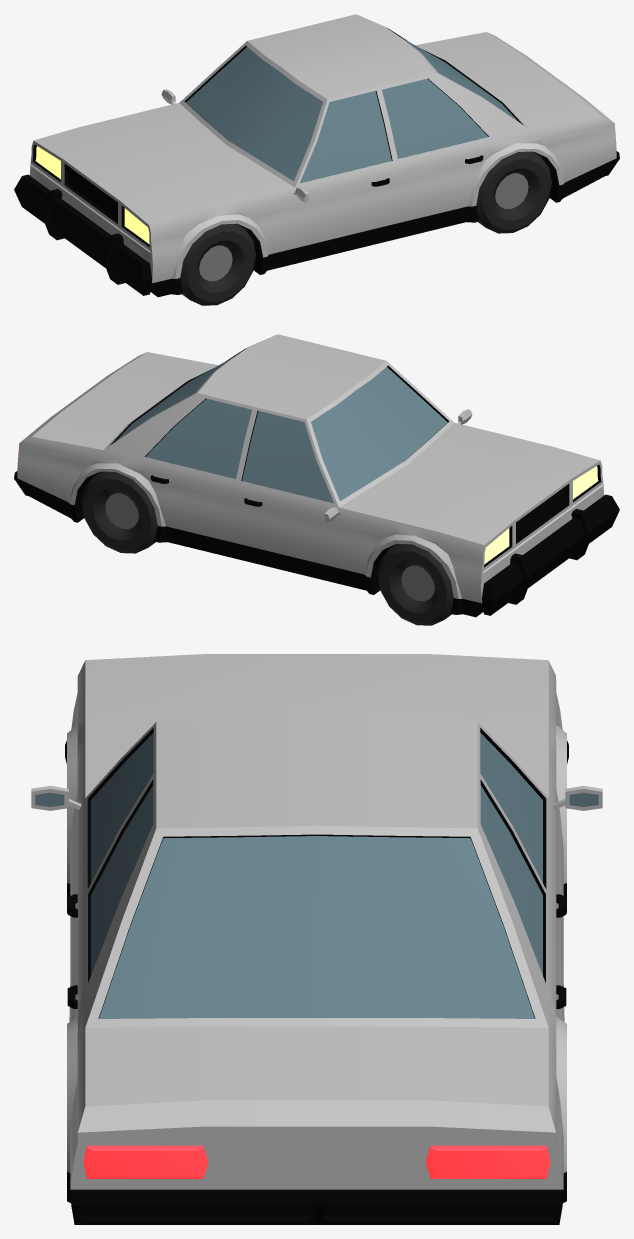
Rendered from civil_car.fbx.
3 renders of one model, top to bottom at view 1: azimuth 30°, elevation 25°; view 2: azimuth 150°, elevation 25°; view 3: azimuth 270°, elevation 25°, orthographic. The views are drawn at different scales.
Parts seen in each view (by area): view 1: car, wheel_front_left, wheel_back_left; view 2: car, wheel_front_right, wheel_back_right; view 3: car.
Part boxes in pixels (<box>): car: <box>14,14,619,297</box>; wheel_front_left: <box>180,223,255,305</box>; wheel_back_left: <box>476,151,551,233</box>; car: <box>14,334,619,617</box>; wheel_front_right: <box>378,543,453,625</box>; wheel_back_right: <box>82,471,157,553</box>; car: <box>31,654,602,1224</box>.
Bounding box in the file's own units: 413 × 134 × 211.
